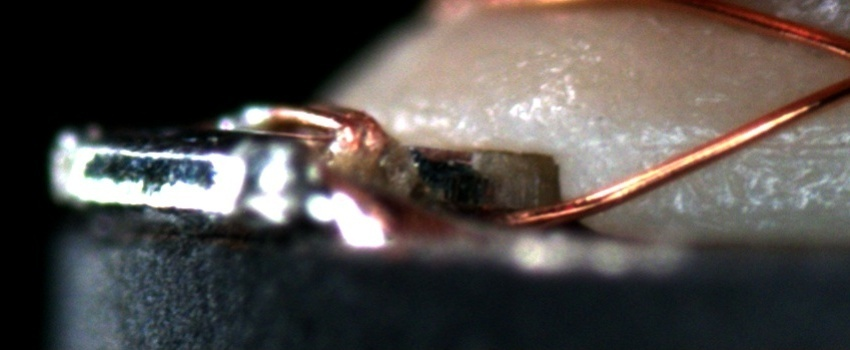DL: (639, 113, 849, 175)
TE: (229, 97, 388, 164)
